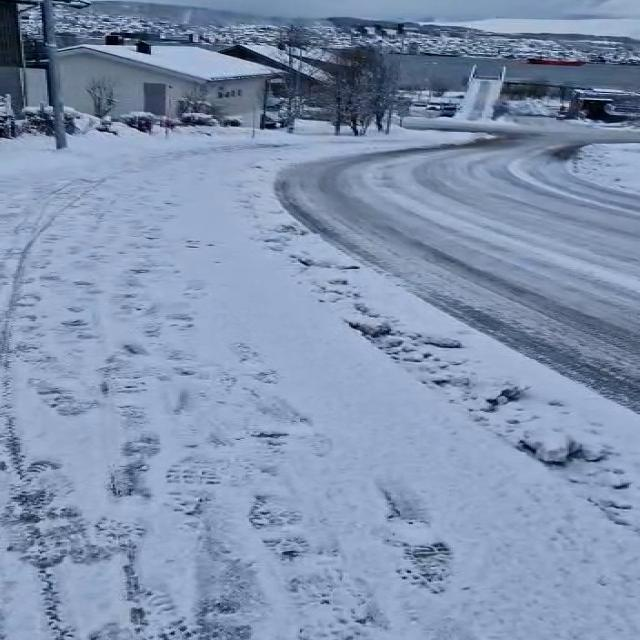path: (276, 118, 640, 406)
